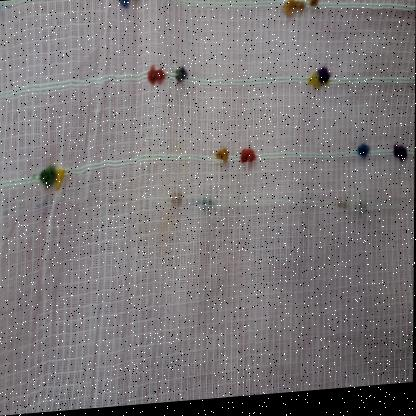spot: (160, 133, 189, 183), (157, 193, 176, 263)
